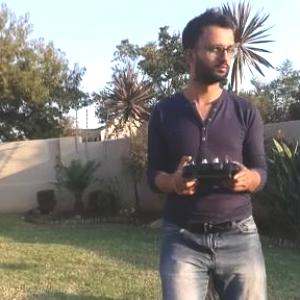follow: (144, 3, 277, 299)
